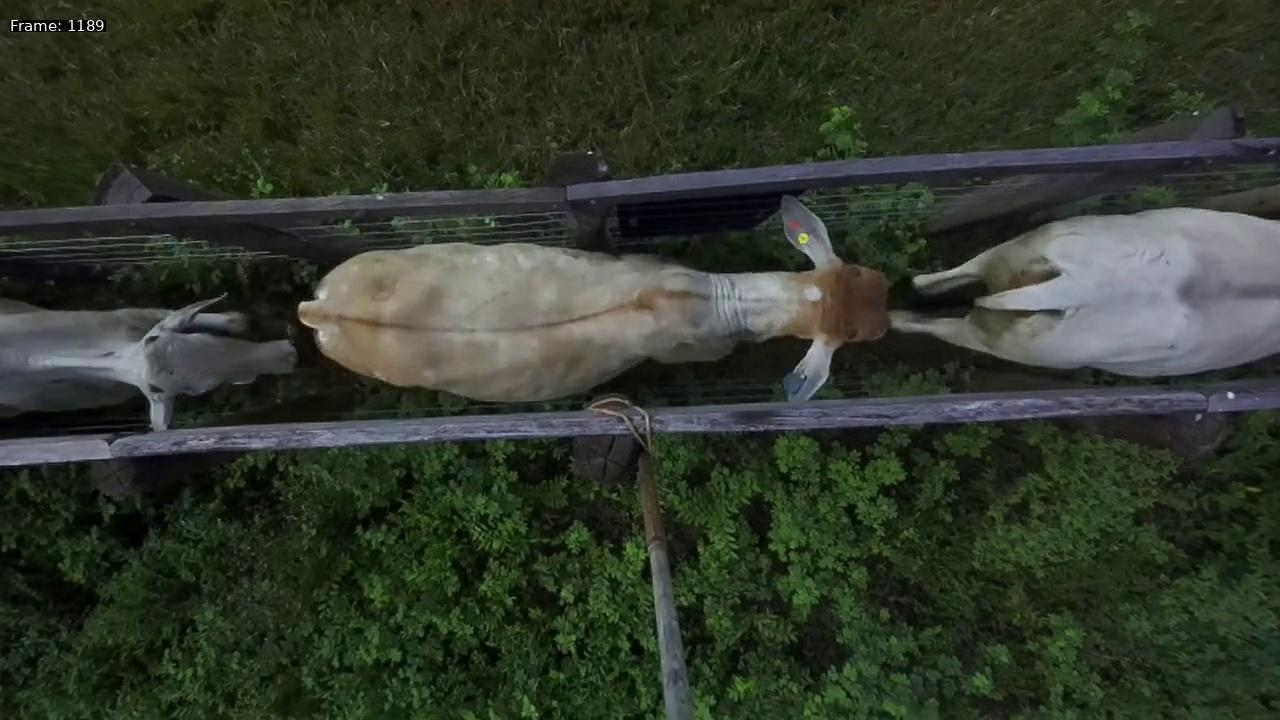cattle: (290, 179, 901, 413)
